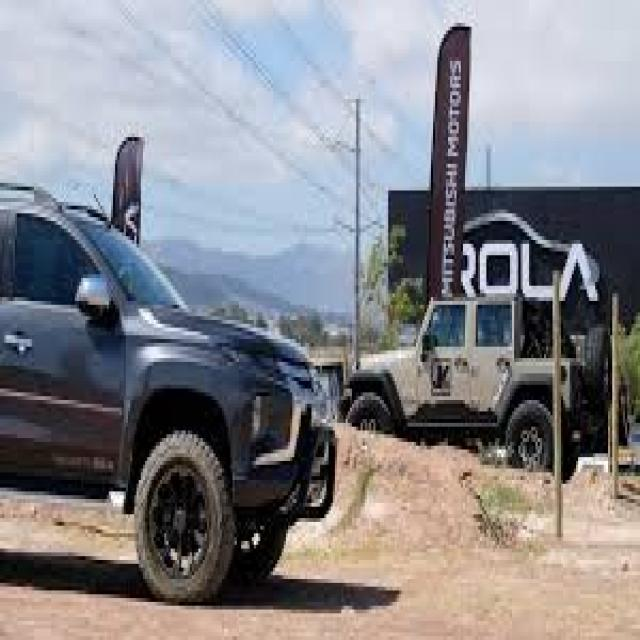Pickup Trucks: (2, 171, 337, 606), (342, 289, 612, 484)
